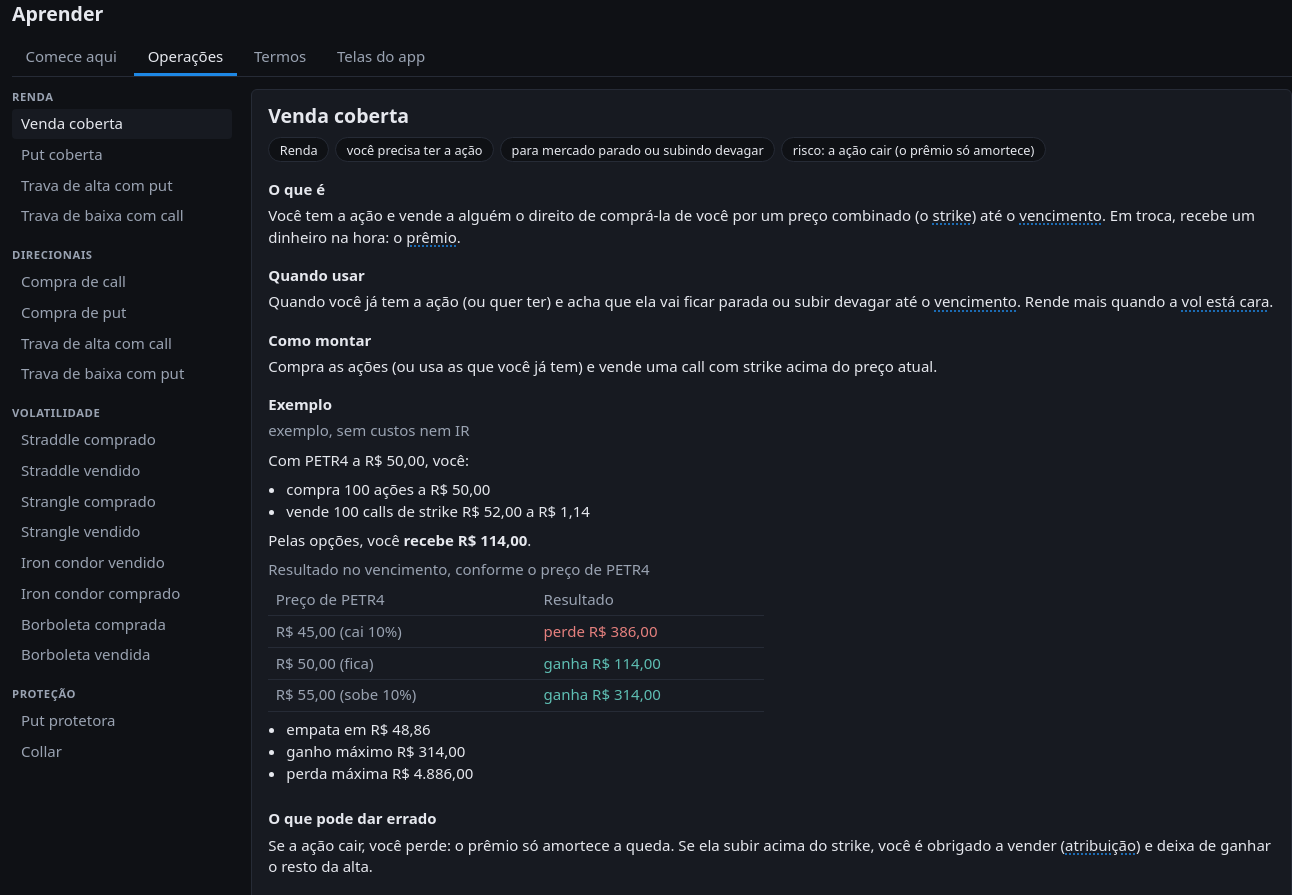
it: os termos do glossário nos textos viram links para a aba Termos
This screenshot has width=1292, height=895.
Click the link "strike". click: (952, 215)
box: [932,205,972,225]
(page scrolled)
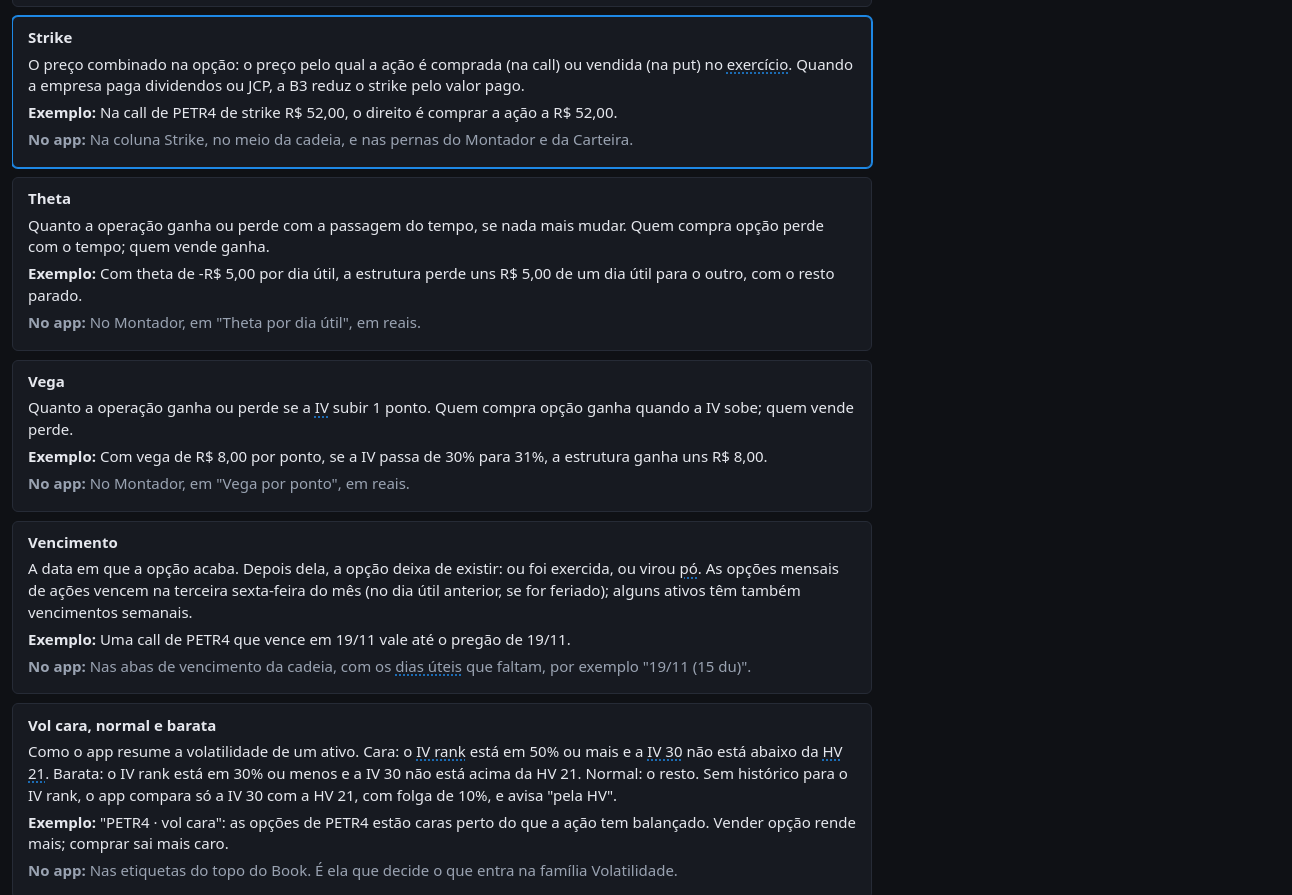
Result: the heading "Strike" is shown at [28,27,72,47]
